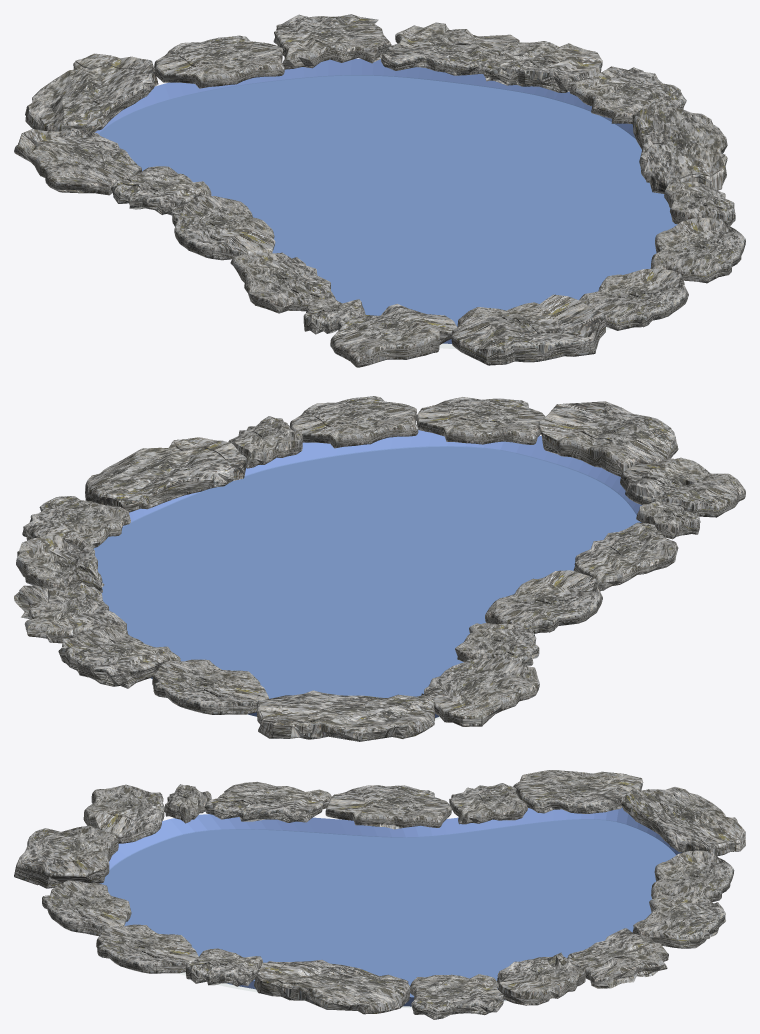
The model's file is pond.FBX.
The picture shows the model from 3 angles, top to bottom: view 1: azimuth 30°, elevation 25°; view 2: azimuth 150°, elevation 25°; view 3: azimuth 270°, elevation 25°; orthographic projection. The views are drawn at different scales.
Parts seen in each view (by area): view 1: basin, rocks; view 2: basin, rocks; view 3: basin, rocks.
Part boxes in pixels (x1,y1,x2,y2): basin: (95,58,677,343); rocks: (14,14,745,367); basin: (93,430,641,718); rocks: (14,396,745,741); basin: (99,807,681,1006); rocks: (14,770,745,1019).
Size of the model in its own units: 2060 by 128 by 2636.
3 materials, 1 textured.
